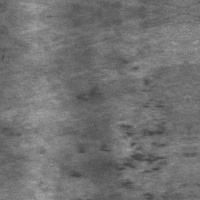rolled-in_scale: (109, 100, 175, 199), (69, 140, 112, 199)
